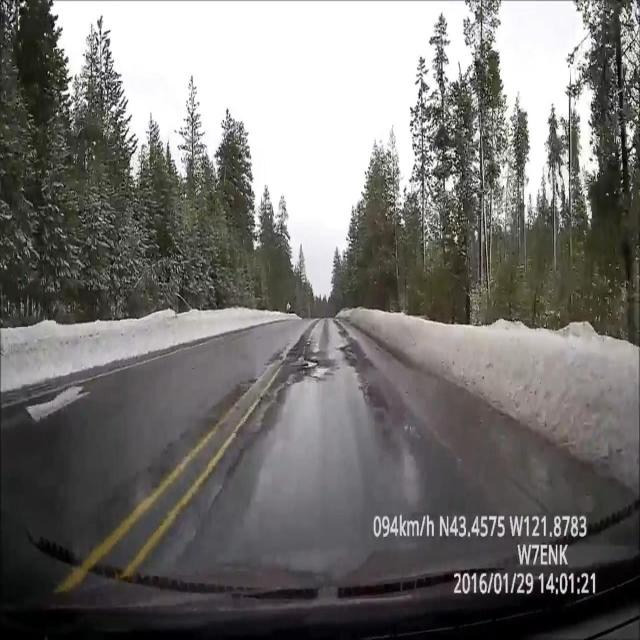pothole: (297, 354, 319, 369), (296, 367, 309, 376)
